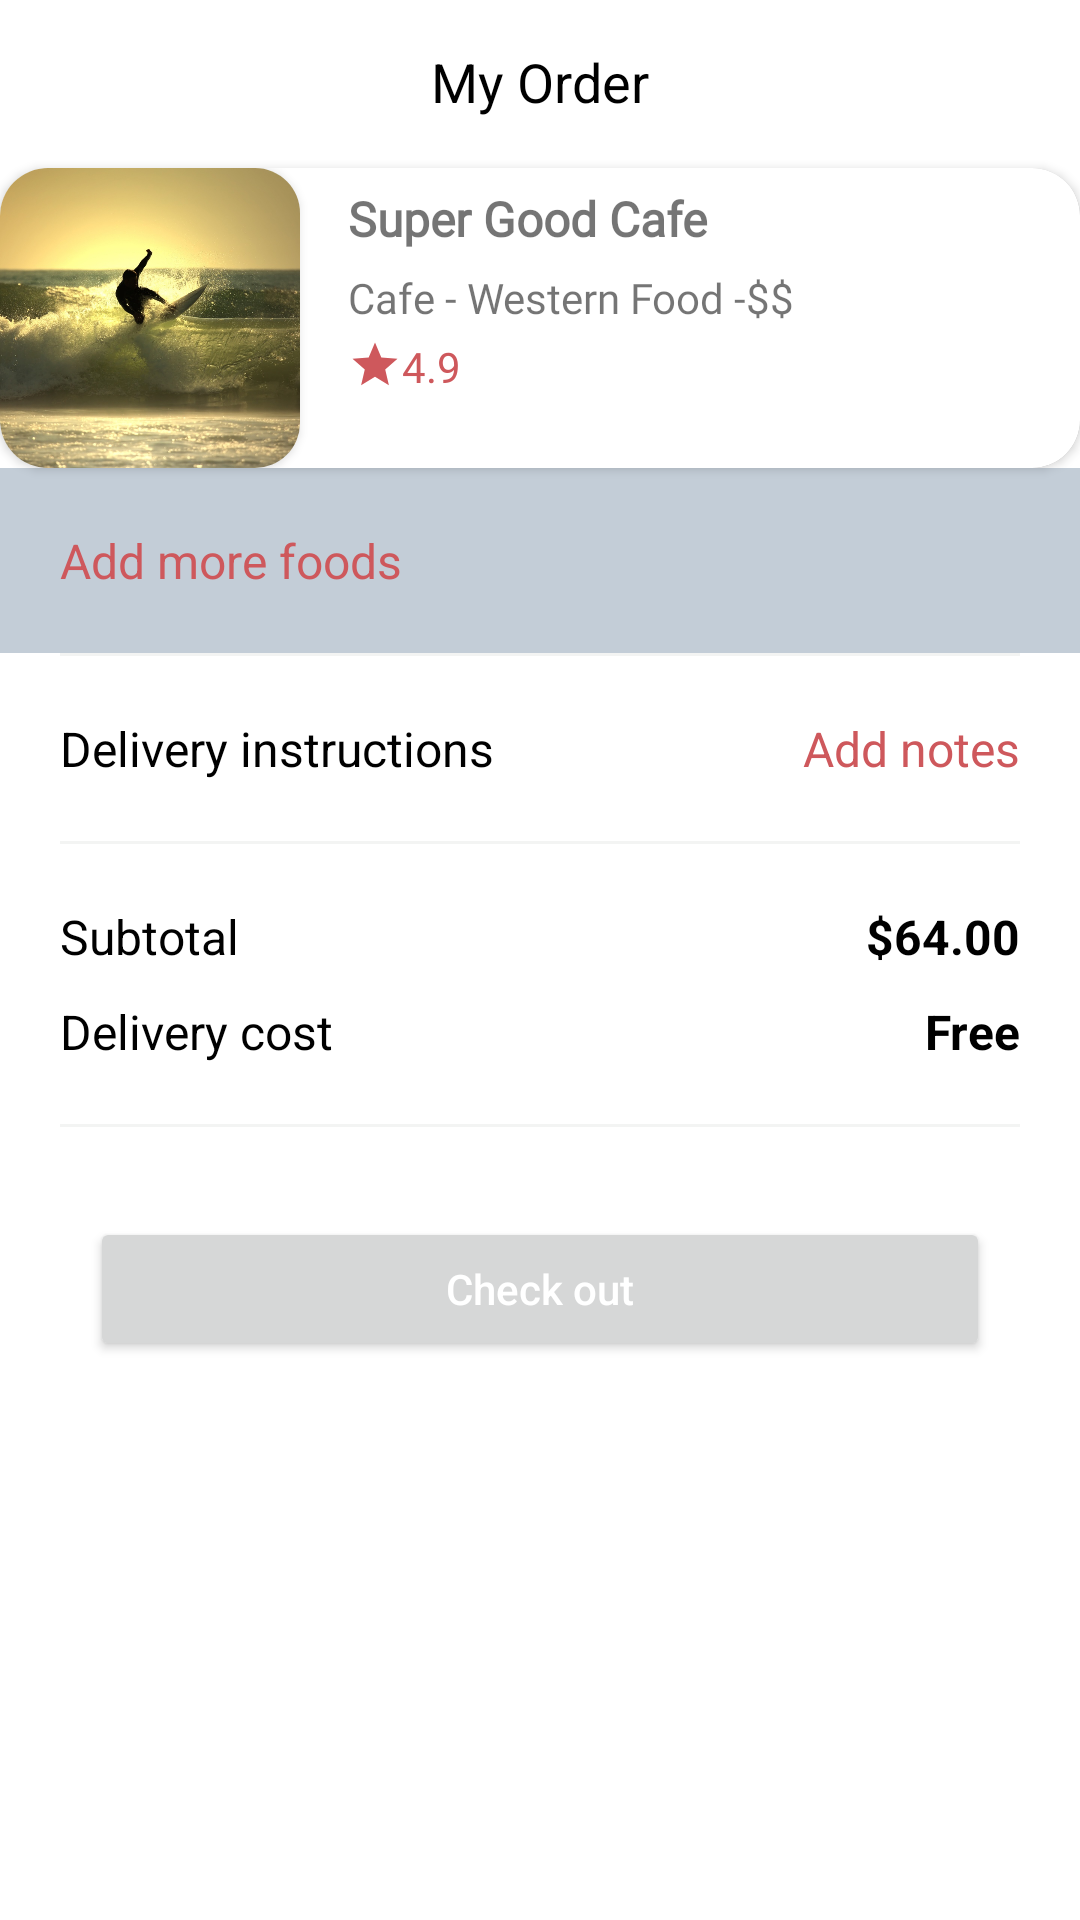

Locate icon controls on the screen. Image size 1080px x 1920px, boxes as (left=x1, top=y1, right=x2, bottom=y2).
star: (left=353, top=343, right=397, bottom=385)
